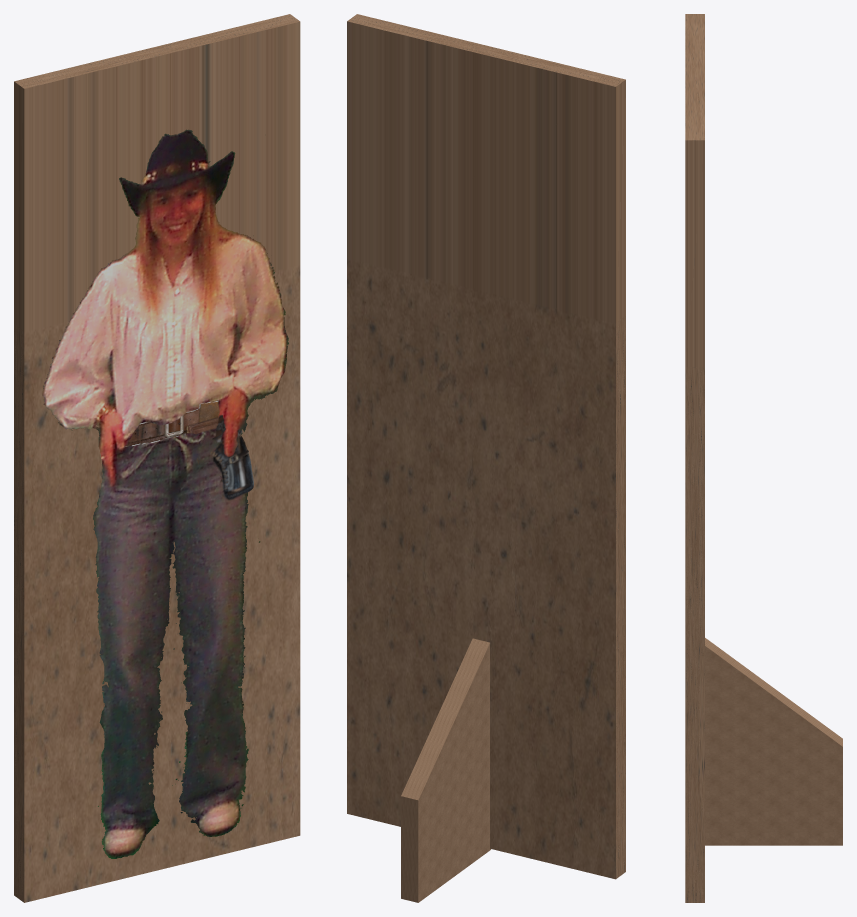
3 views of the same model, side by side, from view 1: azimuth 30°, elevation 25°; view 2: azimuth 150°, elevation 25°; view 3: azimuth 270°, elevation 25° (orthographic). The views are drawn at different scales.
Visible parts, largest first — view 1: Cube, 1-ready; view 2: Cube, Cube.001; view 3: Cube.001, Cube.
Boxes of the visible parts, x1=… form: Cube: x1=14, y1=14, x2=300, y2=902; 1-ready: x1=42, y1=129, x2=288, y2=858; Cube: x1=347, y1=14, x2=625, y2=879; Cube.001: x1=401, y1=638, x2=491, y2=902; Cube.001: x1=705, y1=638, x2=842, y2=845; Cube: x1=685, y1=14, x2=704, y2=902.
Size of the model in its own units: 504 by 1316 by 267.
